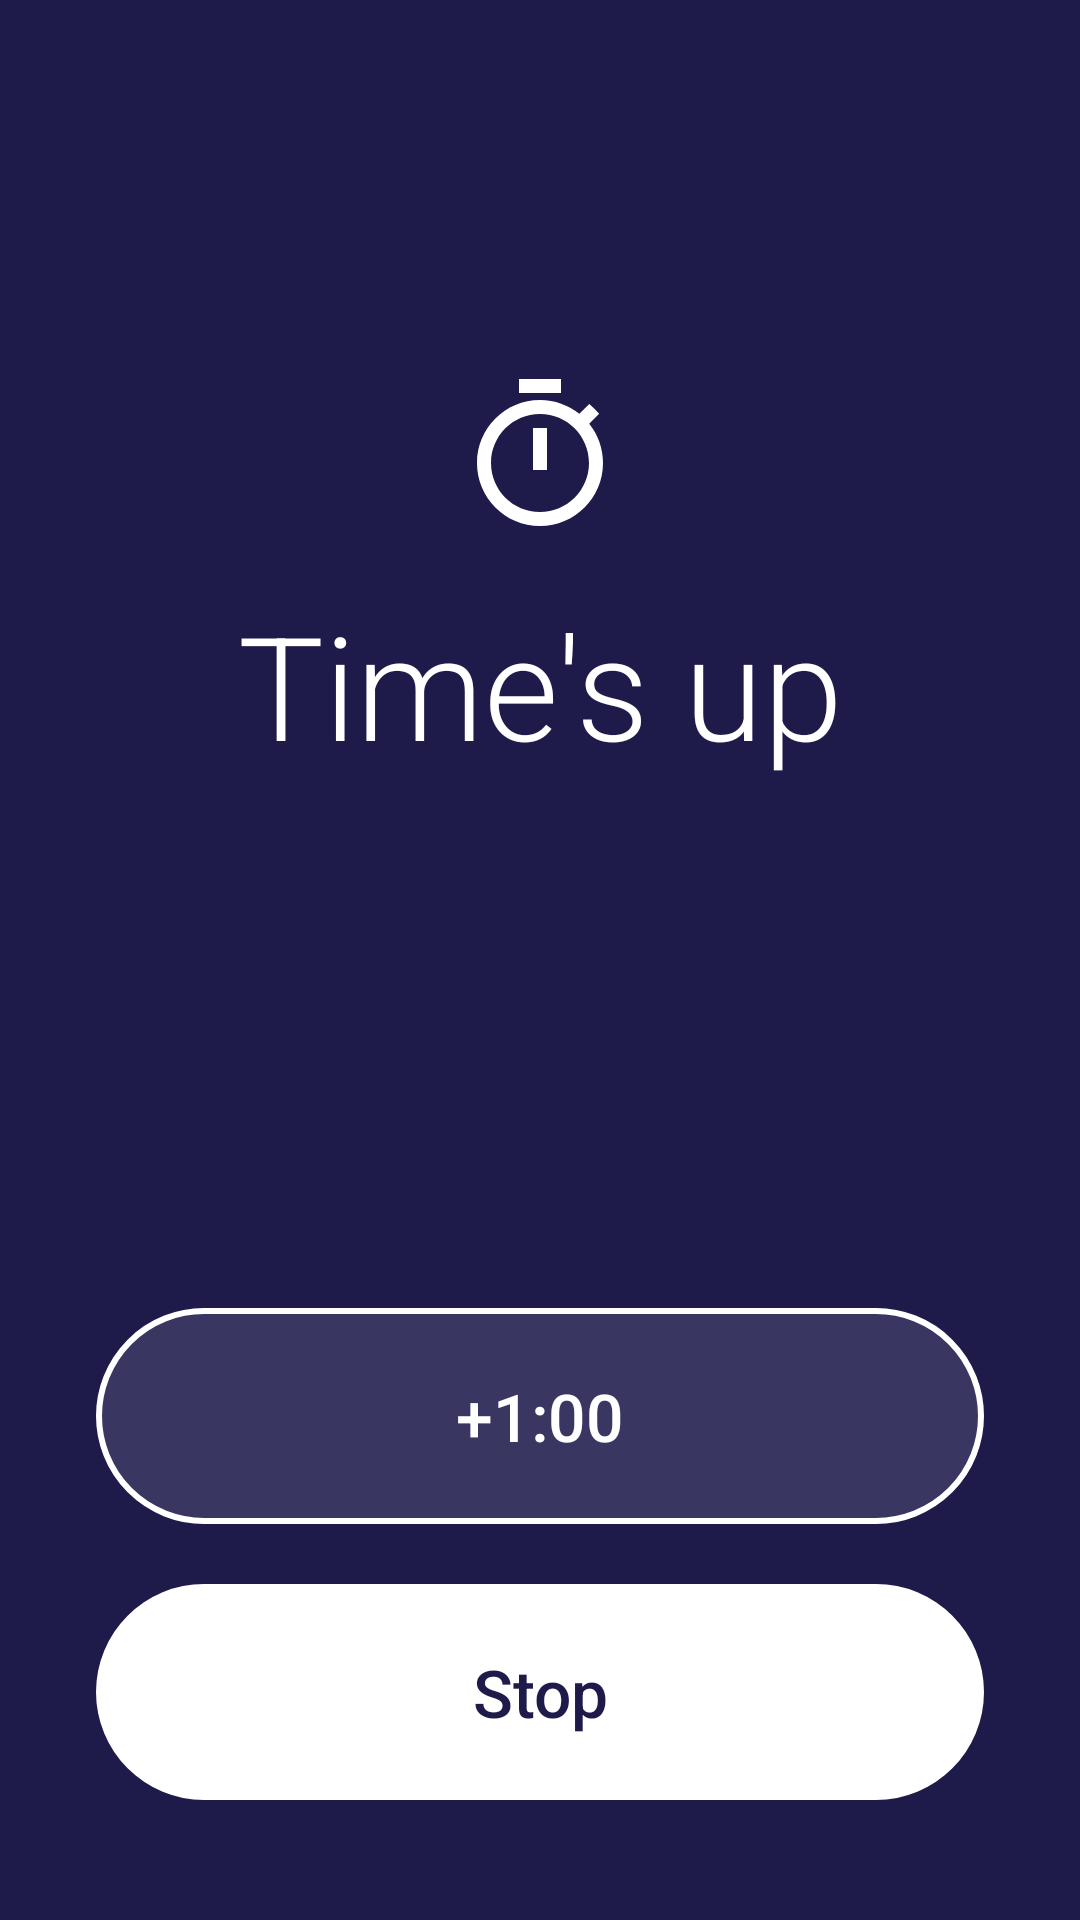

Locate icon controls on the screen. Image size 1080w x 1920h, boxes as (x1, y1, x2, y2).
timer: (477, 379, 603, 526)
